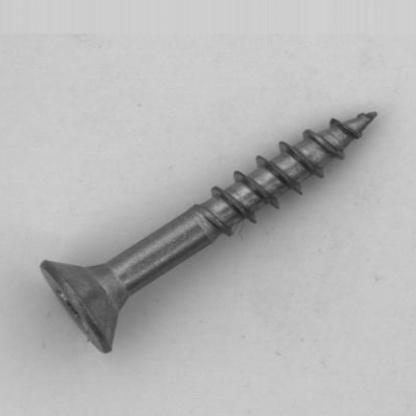metal: (39, 109, 377, 353)
